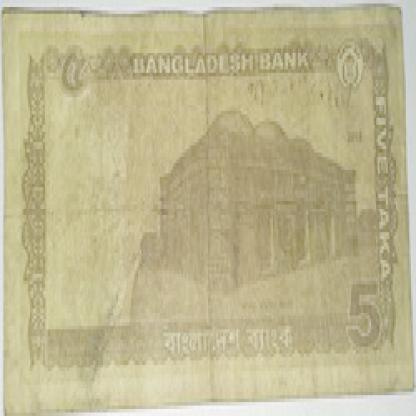Five Taka: (346, 274, 381, 357), (57, 42, 92, 100)
